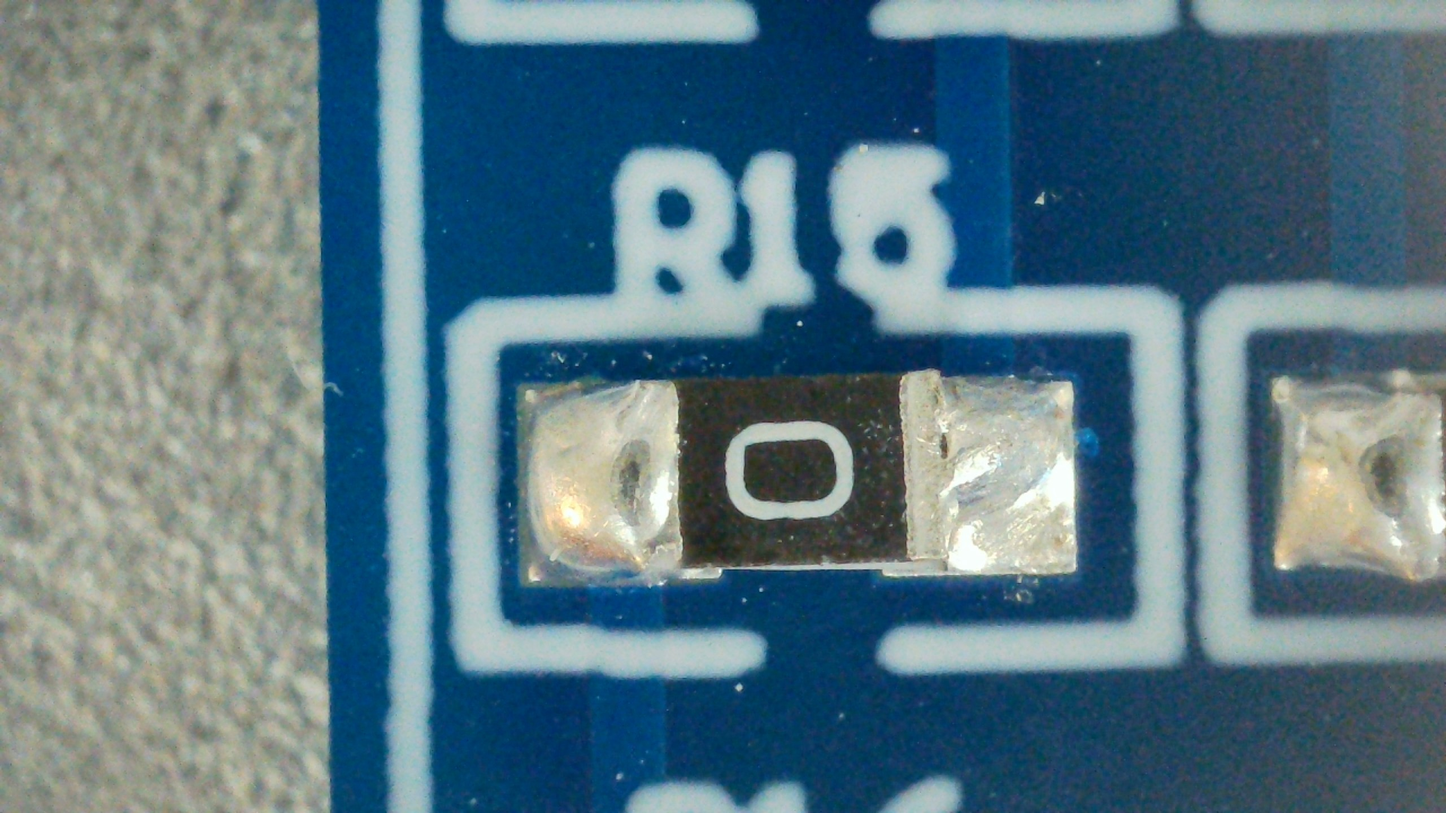OK: (518, 370, 1075, 587)
